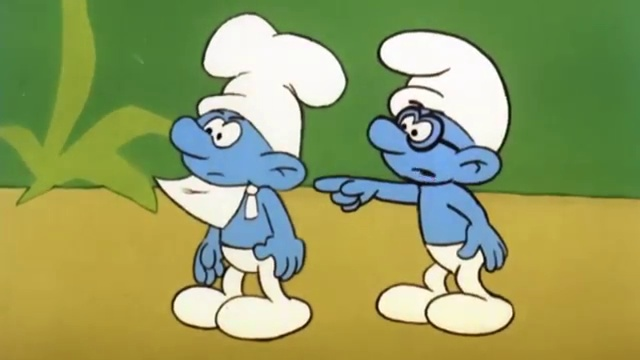smurf: (150, 11, 348, 341), (311, 28, 514, 336)
